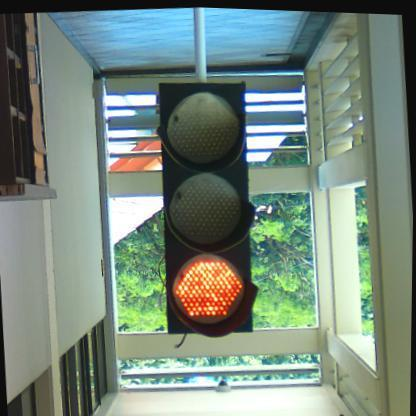red: (148, 76, 266, 344)
